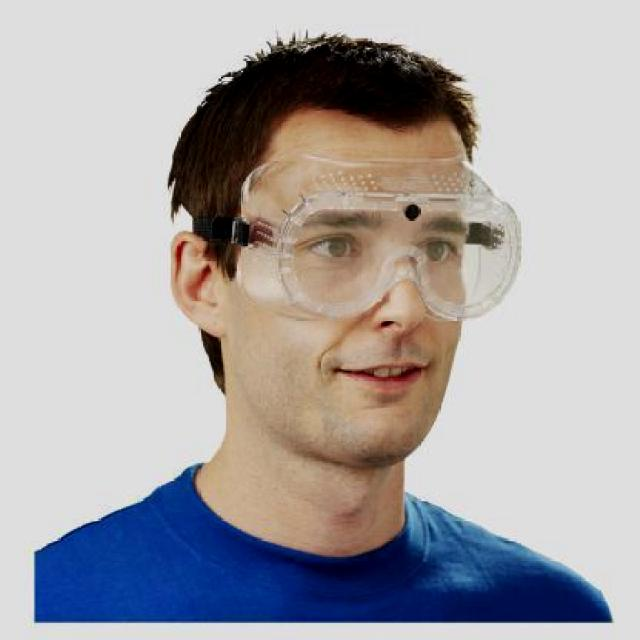face_nomask: (275, 184, 471, 408)
glasses: (217, 153, 523, 324)
head_nohelmet: (171, 34, 477, 161)
